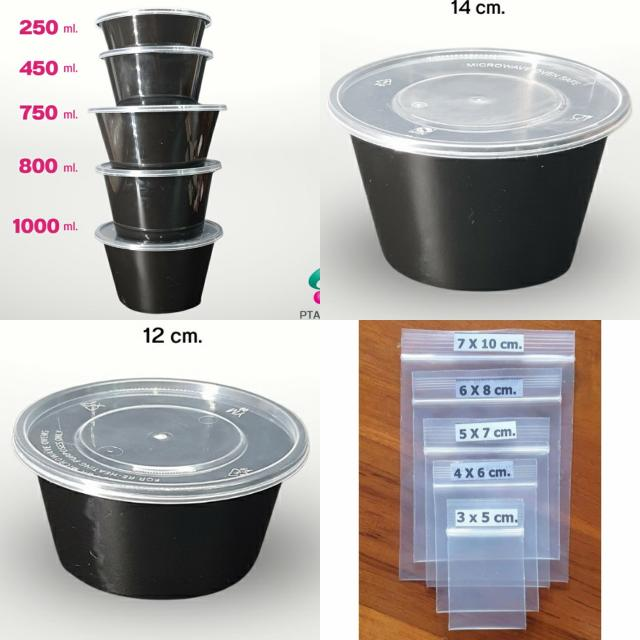Single-layer Plastic: (400, 330, 575, 629), (446, 500, 526, 630)
